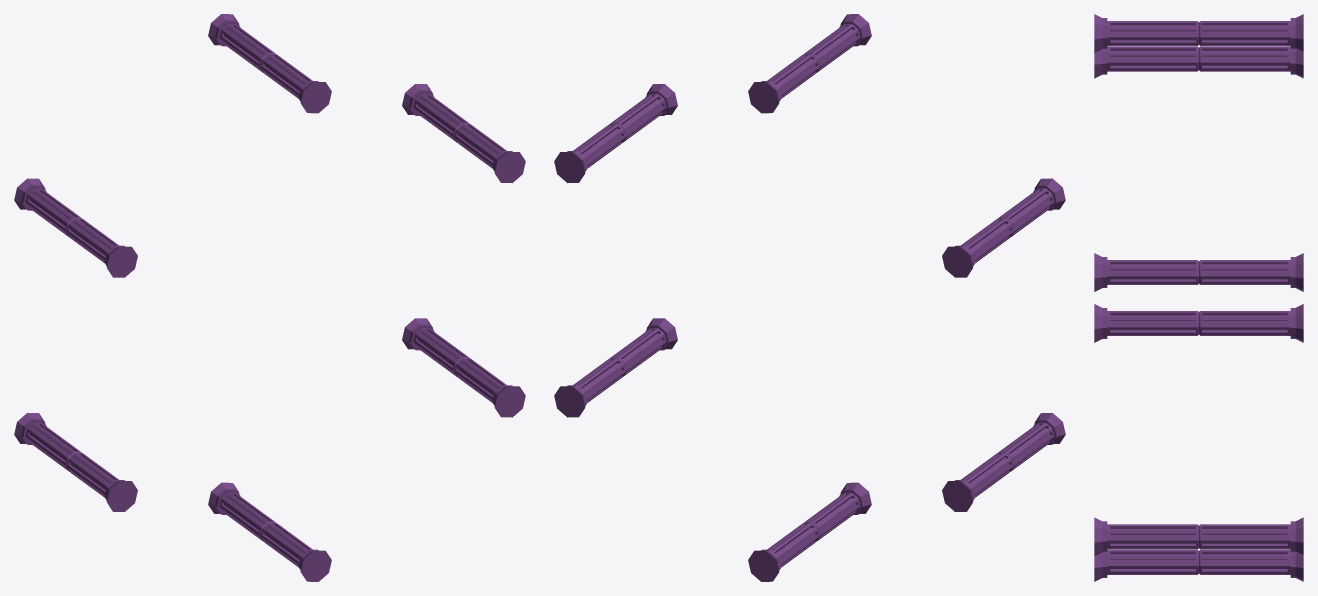
Rendered from ArenaPillars 1.fbx.
The picture shows the model from 3 angles, left to right: view 1: azimuth 30°, elevation 25°; view 2: azimuth 150°, elevation 25°; view 3: azimuth 270°, elevation 25°; orthographic projection. The views are drawn at different scales.
Visible parts, largest first — view 1: Pillars; view 2: Pillars; view 3: Pillars.
Part boxes in pixels (box(x1,y1,x2,y2)): Pillars: box(14, 14, 525, 581); Pillars: box(554, 14, 1065, 581); Pillars: box(1094, 14, 1303, 581).
Bounding box in the file's own units: 28.44 × 32.51 × 10.91.
